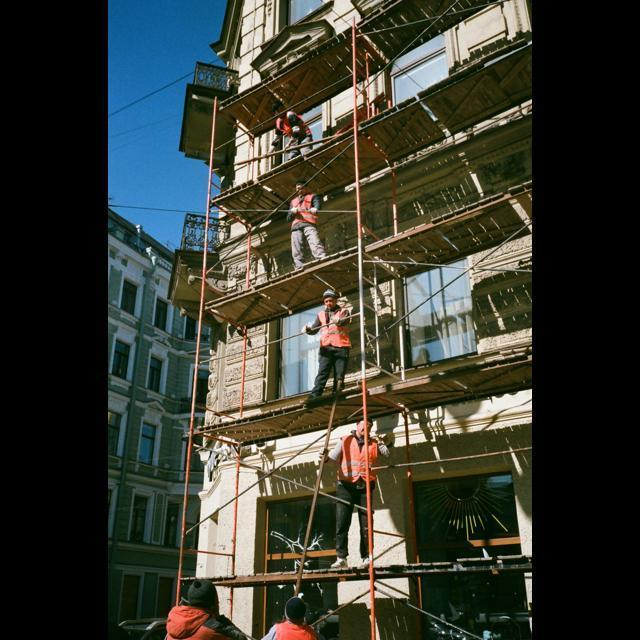helmet: (318, 284, 342, 301)
safety_vest: (338, 433, 380, 487), (314, 306, 353, 352), (281, 194, 319, 230), (276, 110, 310, 145)
